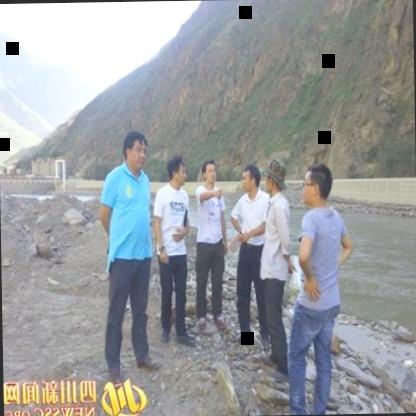head: (298, 162, 338, 210), (121, 127, 150, 172), (261, 156, 288, 197), (238, 162, 260, 198), (166, 154, 188, 188), (199, 160, 222, 188)
